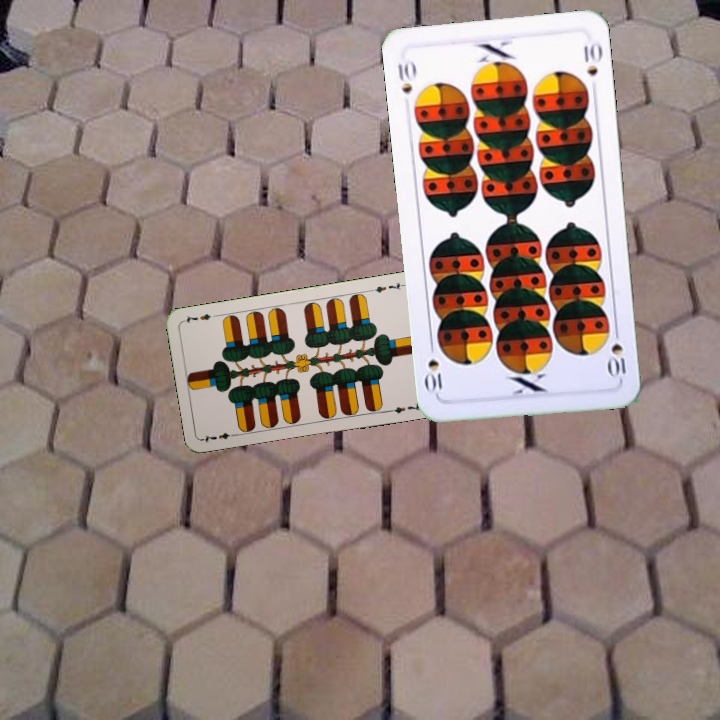E7: (366, 278, 406, 295), (199, 429, 240, 445)
S10: (605, 323, 628, 382), (393, 59, 415, 96)
